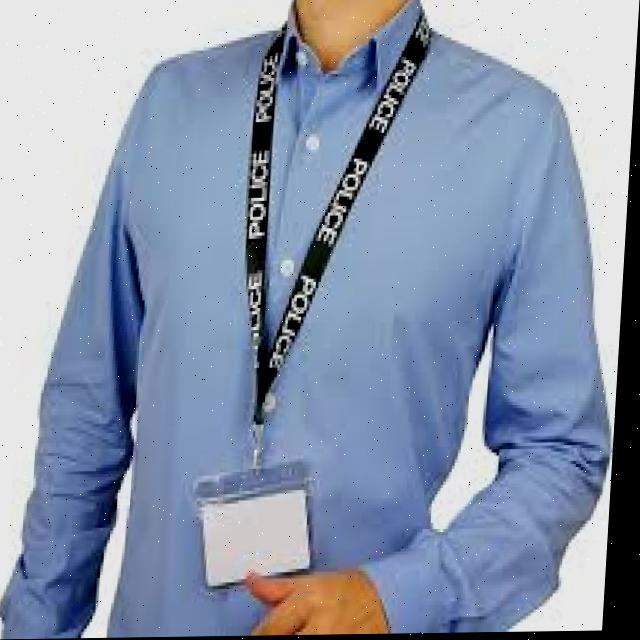id_card: (219, 47, 353, 591)
